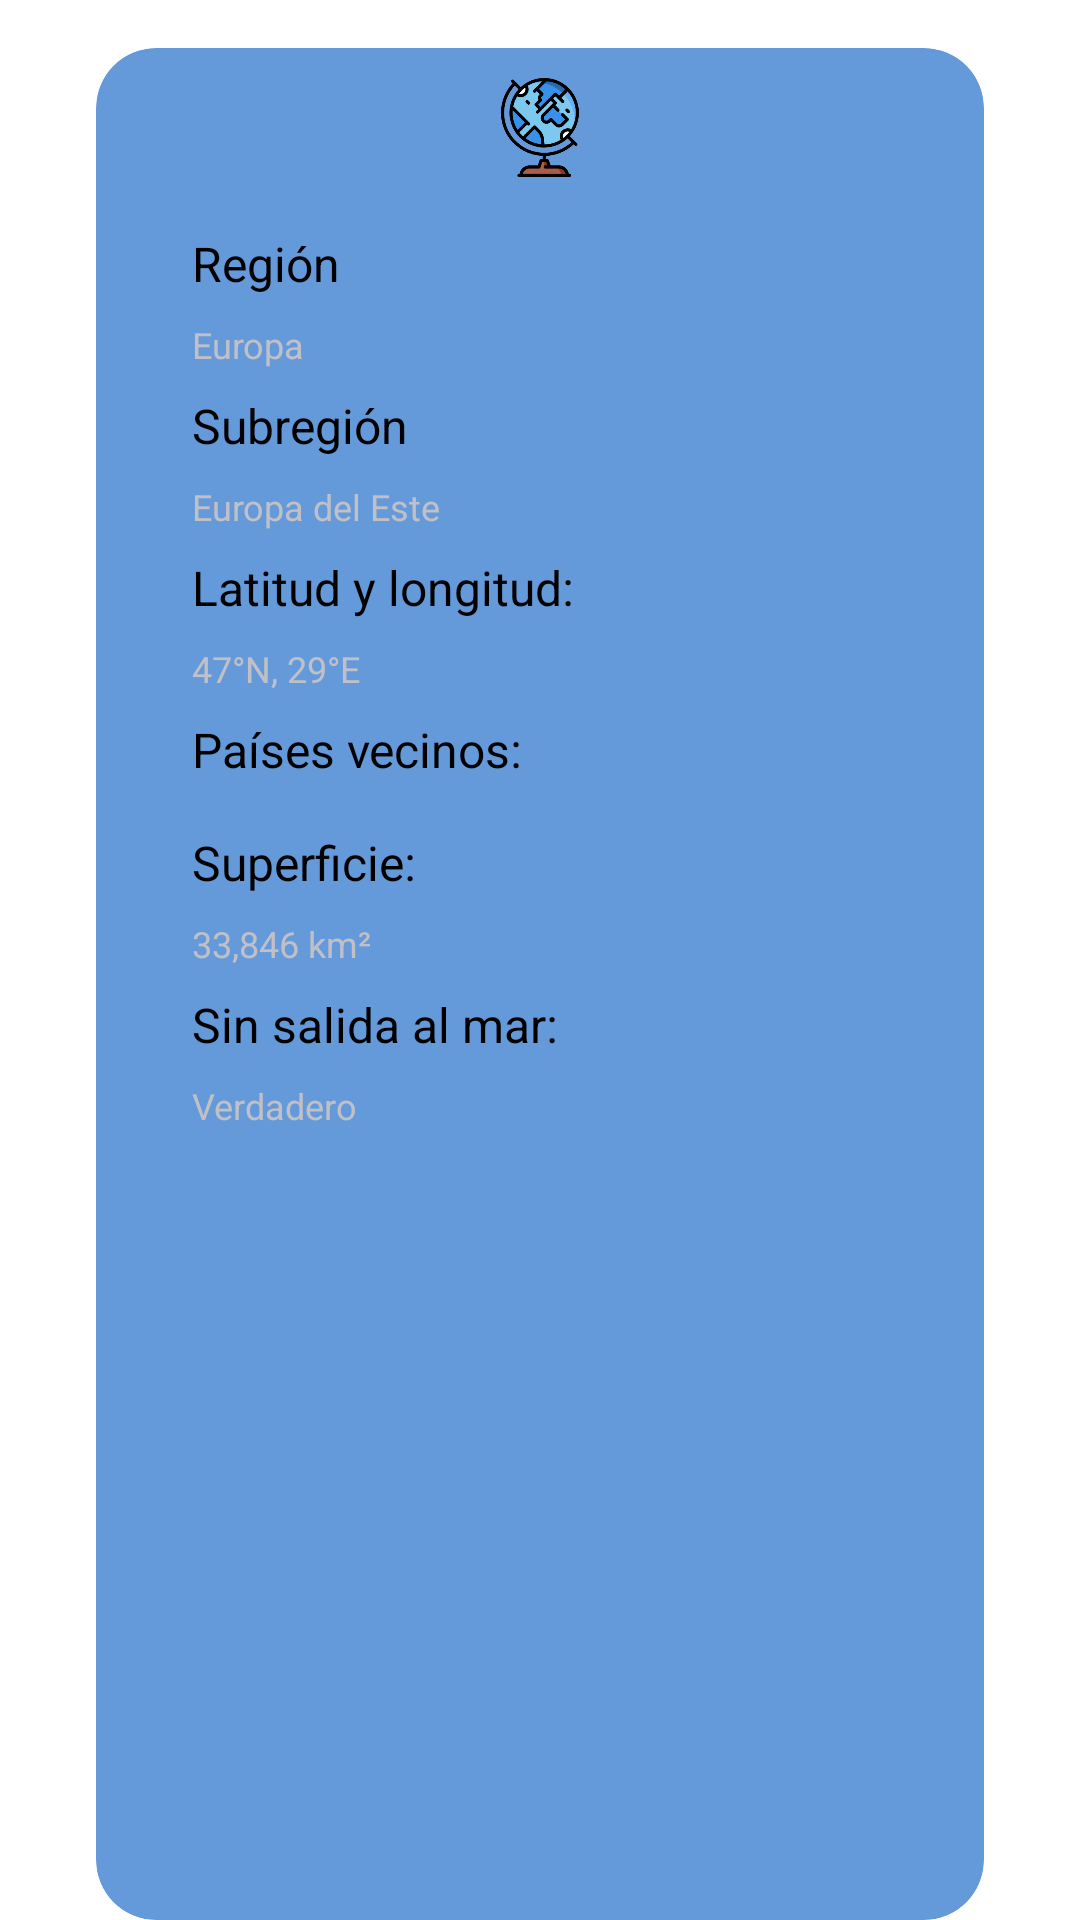

Icon click points for this 1080px×1920px phone screenshot, format (x,y):
geography: (540,127)
